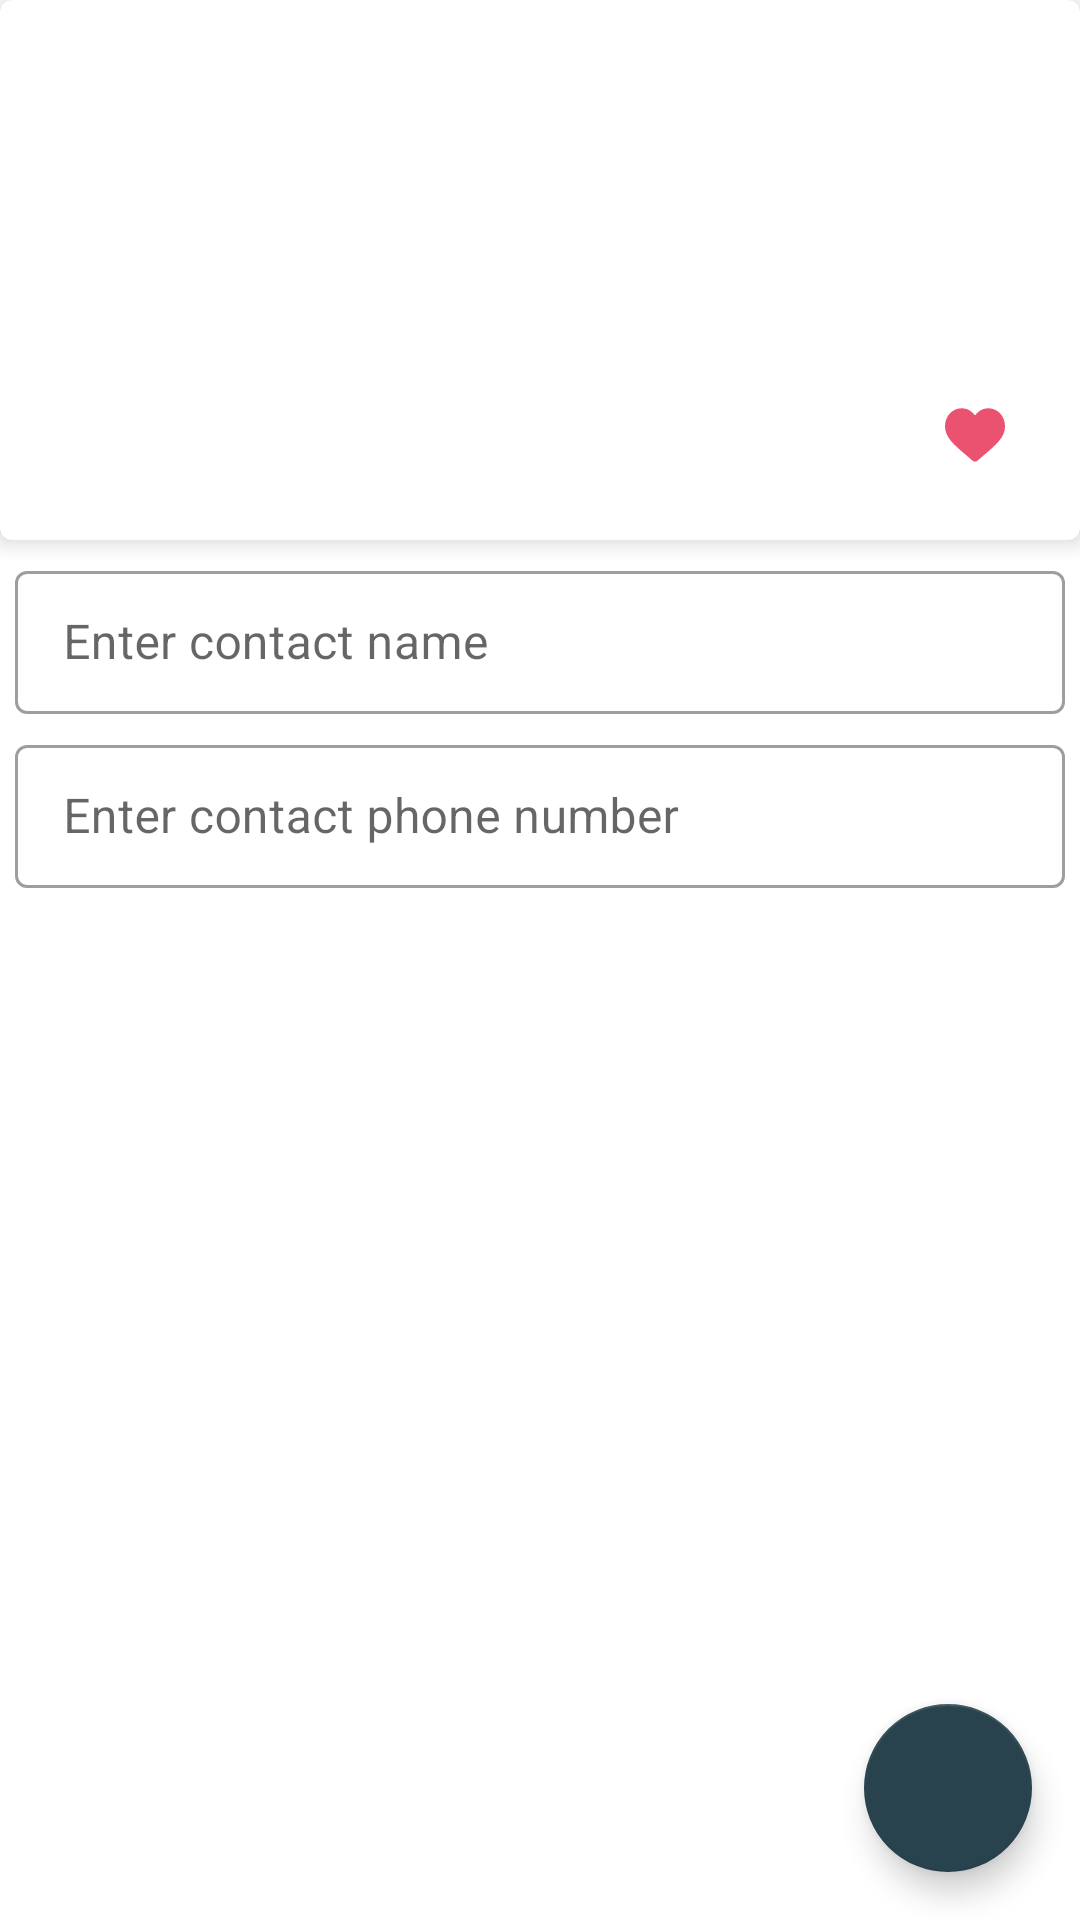

Icons on this 1080x1920 Android screen, each with the point to tap as point (x, y):
heart: point (975, 435)
